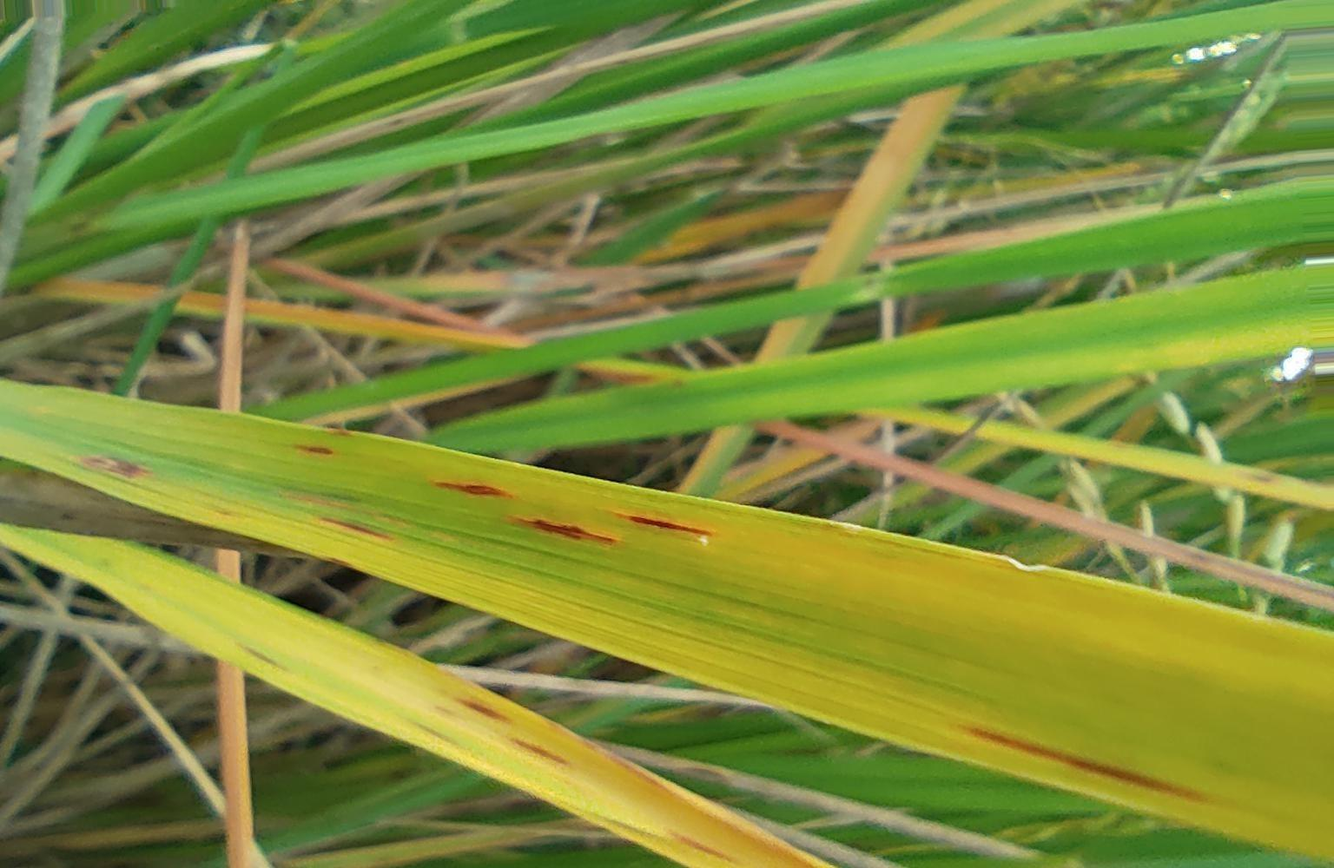LEAF: (0, 383, 1333, 858)
NBS: (967, 726, 1201, 802), (504, 514, 620, 547), (612, 513, 713, 537), (431, 479, 525, 501), (76, 454, 155, 478), (322, 517, 395, 542), (288, 493, 349, 508), (294, 445, 334, 455), (324, 429, 353, 438), (212, 511, 233, 518)
